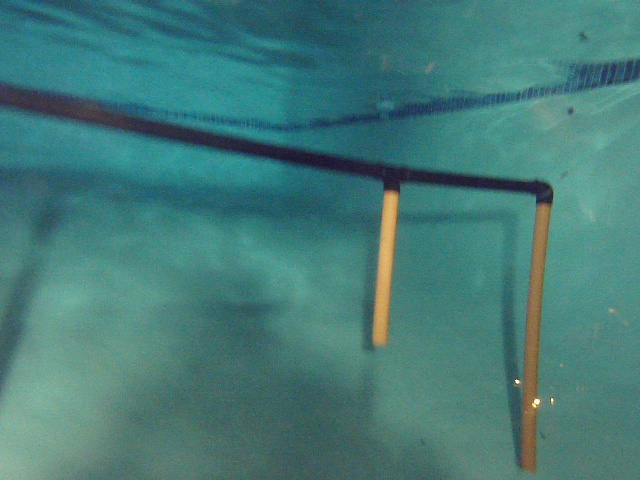Gate: (516, 198, 559, 473), (366, 185, 403, 350)
